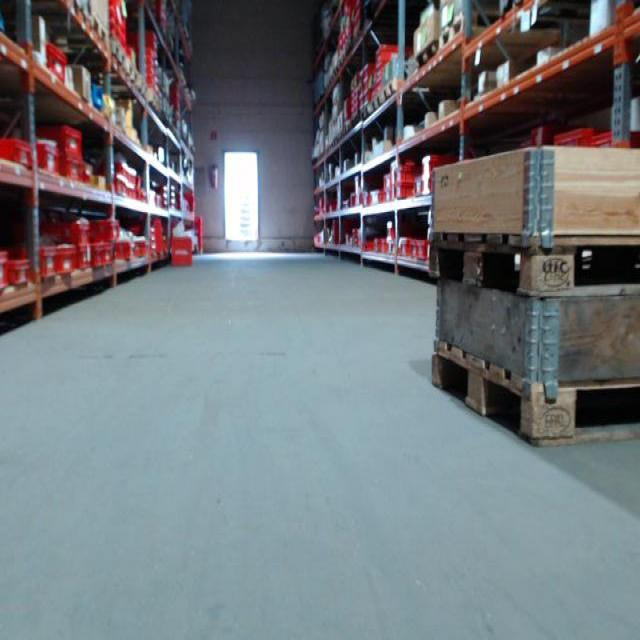pallet: (429, 338, 640, 450), (432, 233, 640, 303), (439, 13, 465, 50), (88, 15, 110, 46), (417, 40, 437, 70), (111, 38, 128, 69), (382, 78, 398, 105), (129, 58, 141, 87), (370, 91, 382, 115), (140, 79, 148, 100)
small_load_carrier: (34, 120, 87, 157), (43, 215, 95, 243), (419, 155, 459, 191), (2, 130, 35, 172), (31, 141, 58, 178), (36, 236, 60, 277), (552, 129, 592, 152), (373, 41, 409, 66), (54, 157, 87, 184), (90, 217, 123, 243), (10, 258, 33, 289), (590, 127, 624, 147), (100, 174, 127, 197), (57, 249, 77, 279), (88, 243, 104, 275), (115, 240, 134, 265), (74, 250, 94, 271), (393, 167, 421, 182), (393, 184, 417, 201), (2, 250, 10, 295), (372, 67, 393, 83), (398, 236, 414, 256), (103, 244, 117, 266), (414, 240, 427, 261), (134, 237, 147, 258), (114, 164, 129, 179)
